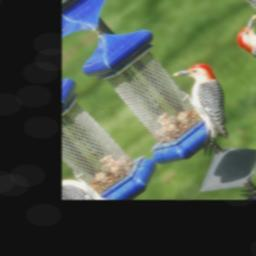Woodpecker: (142, 52, 256, 163)
